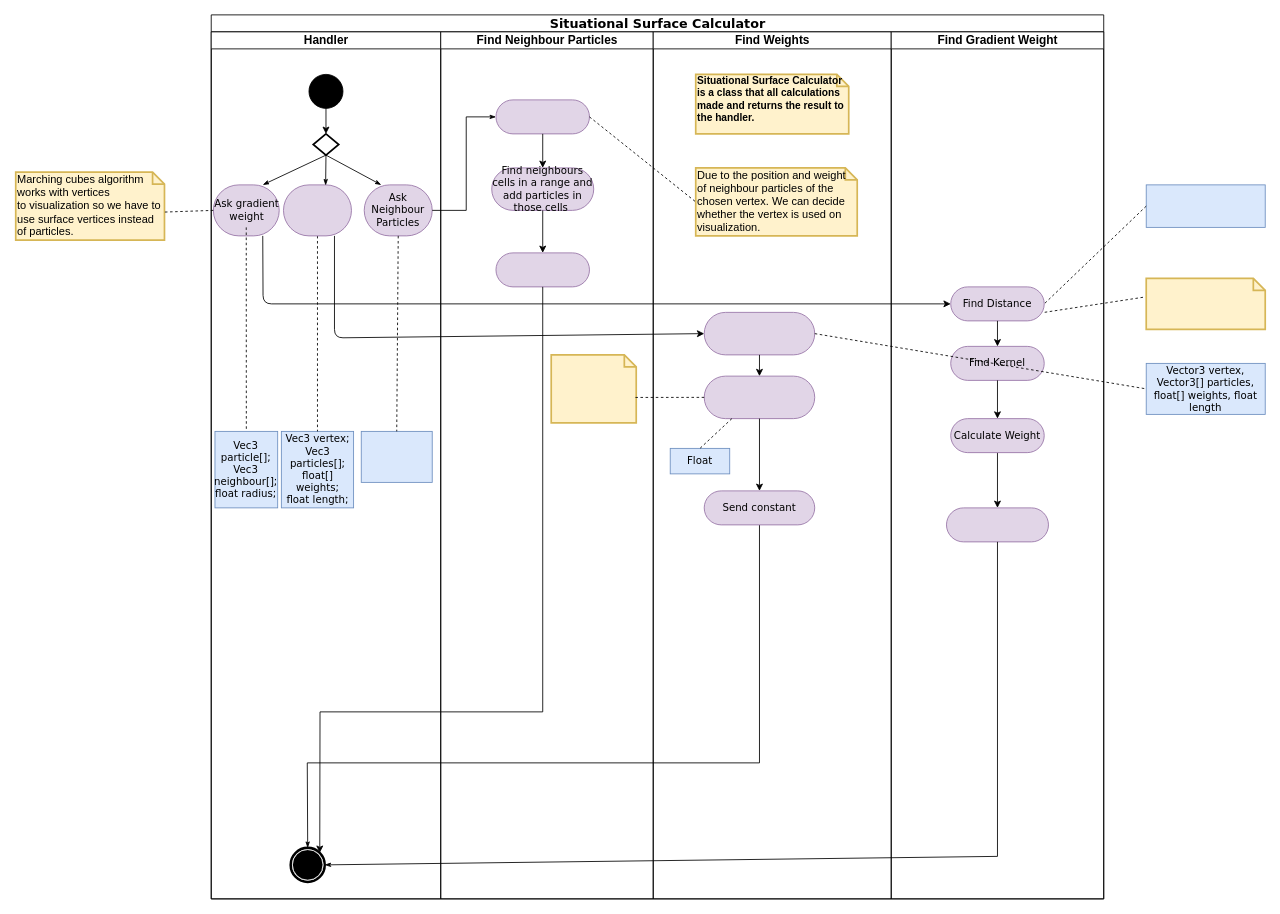
This 1280x914 diagram has some shape labels left out. Each missing label, with the centre of its shape:
"Ask weight" belongs at [317,210].
"Calculate scalar formula" belongs at [759,397].
"Calculate weight of neighbour particles" belongs at [759,333].
"Find neighbours in a range" belongs at [542,116].
"Finds the distance between 2 points in 3D space." belongs at [1205,303].
"int[] Neighbour Cells;" belongs at [396,456].
"Return Neighbours" belongs at [542,269].
"Scalar formula comes from Zhu et al. [ZB05]." belongs at [593,388].
"Send weight" belongs at [997,524].
"Vector3 particle, Vector3 neighbour, float radius" belongs at [1205,205].
